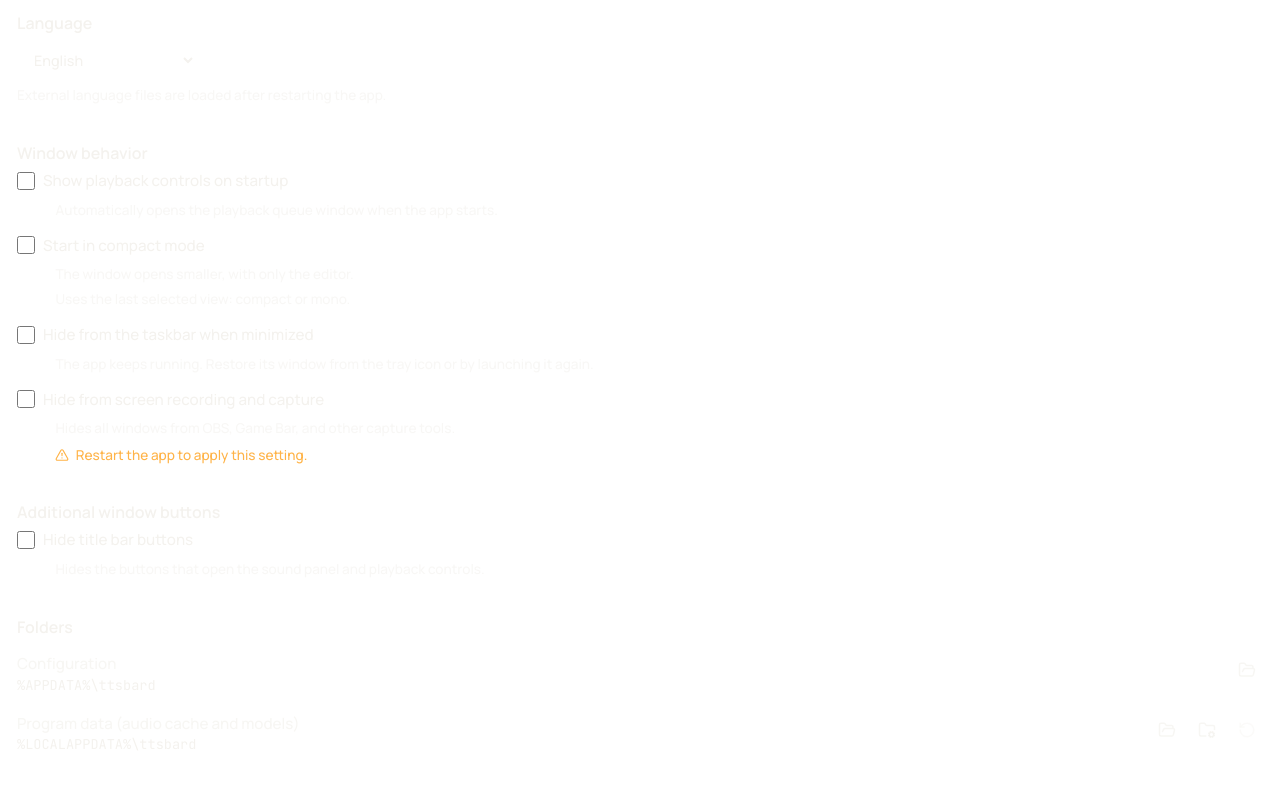
it: SettingsGeneral hide_extra_window_buttons › starts a single save command during rapid repeated change events
This screenshot has width=1280, height=790.
Click the checkbox labelled "Hide title bar buttons" at (26, 540), box [17,531,35,549]
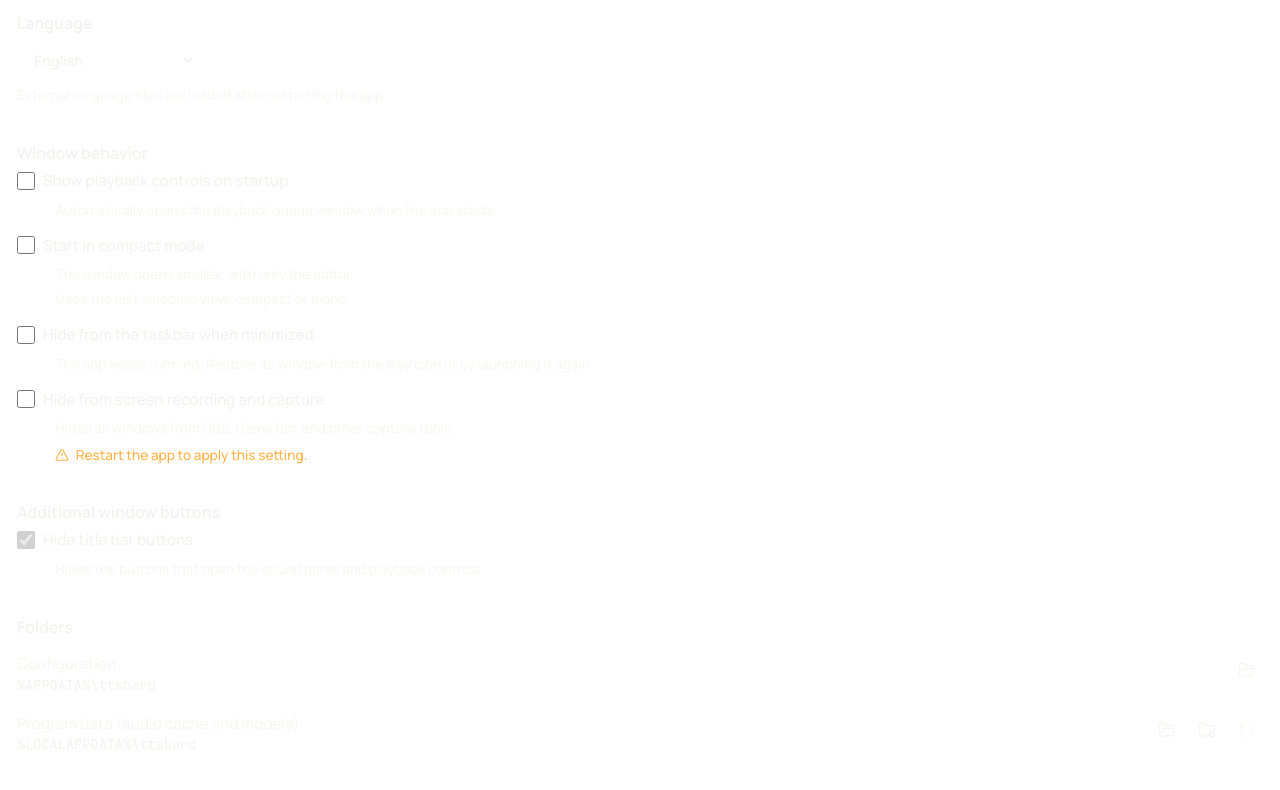
expect the checkbox labelled "Hide title bar buttons" is checked: met
expect the checkbox labelled "Hide title bar buttons" is disabled: met
Click the checkbox labelled "Hide title bar buttons" at (26, 540), box [17,531,35,549]
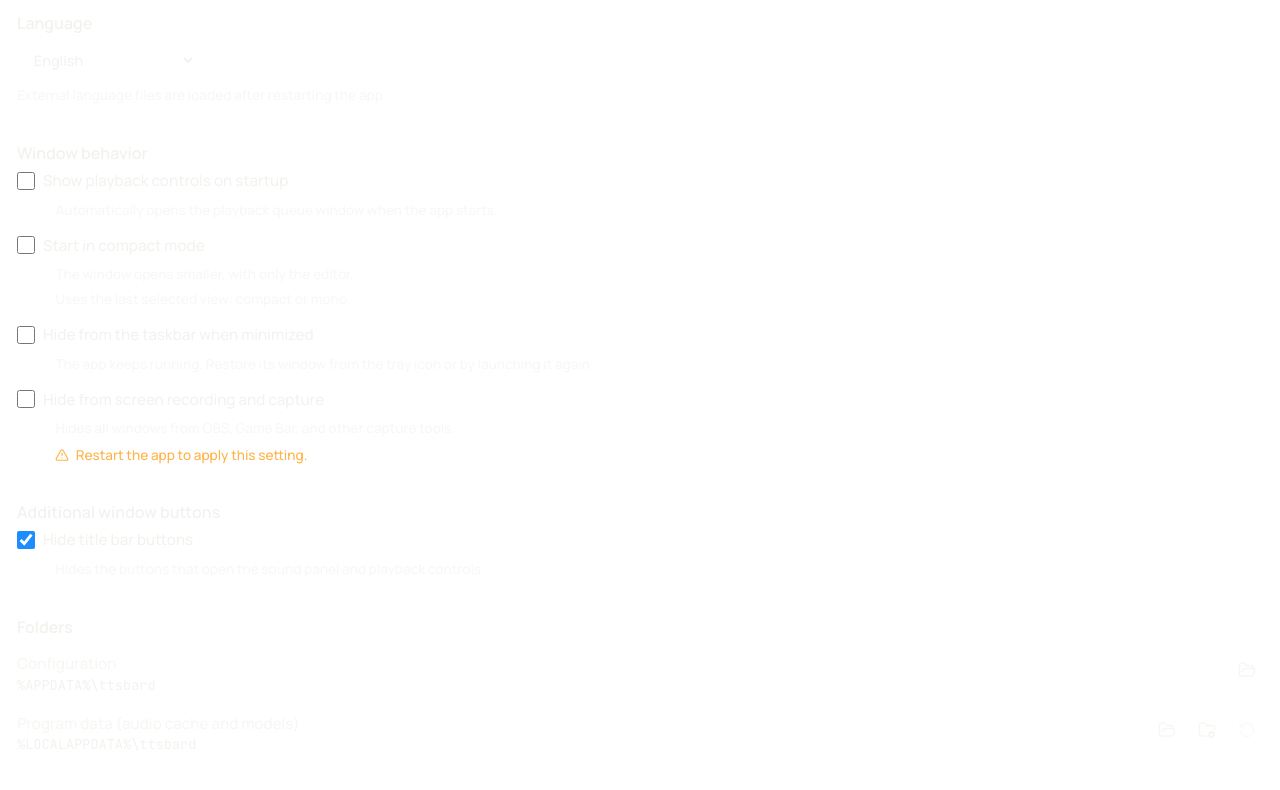
expect the checkbox labelled "Hide title bar buttons" is checked: met, box [17,531,35,549]
expect the checkbox labelled "Hide title bar buttons" is enabled: met, box [17,531,35,549]
